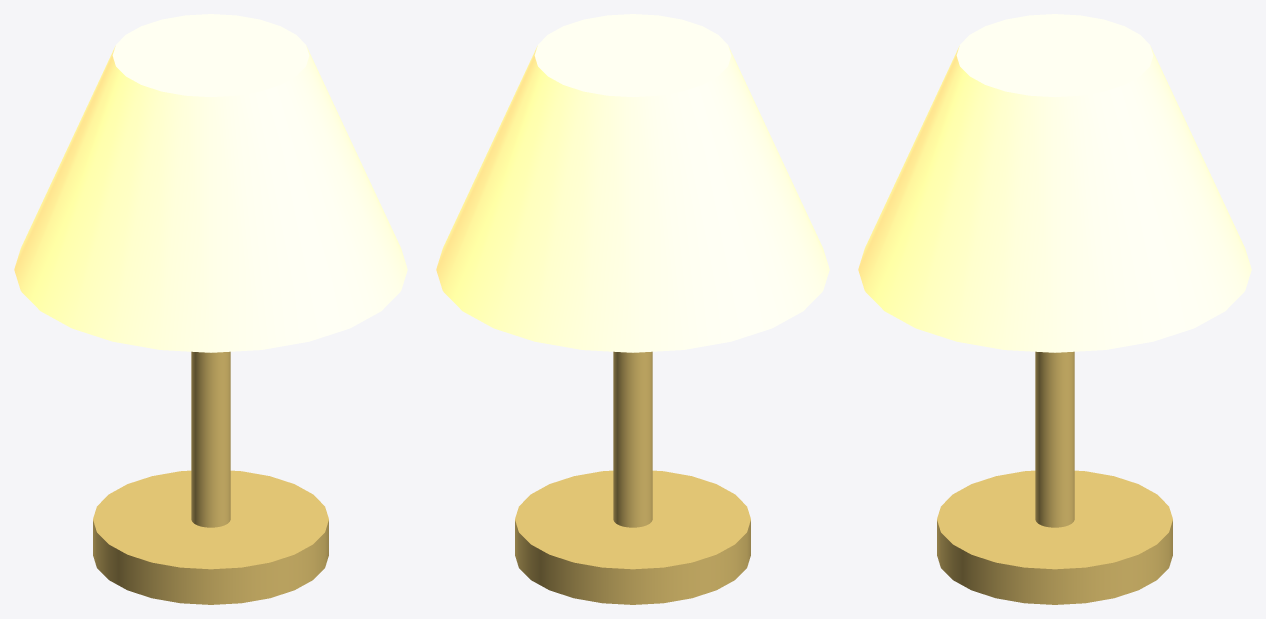
File: lamp.glb
The picture shows the model from 3 angles, left to right: view 1: azimuth 30°, elevation 25°; view 2: azimuth 150°, elevation 25°; view 3: azimuth 270°, elevation 25°; orthographic projection.
Visible parts, largest first — view 1: lamp.glb; view 2: lamp.glb; view 3: lamp.glb.
Boxes of the visible parts, x1=… form: lamp.glb: x1=14, y1=14, x2=407, y2=604; lamp.glb: x1=436, y1=14, x2=829, y2=604; lamp.glb: x1=858, y1=14, x2=1251, y2=604.
Bounding box in the file's own units: 0.2 × 0.28 × 0.2.
